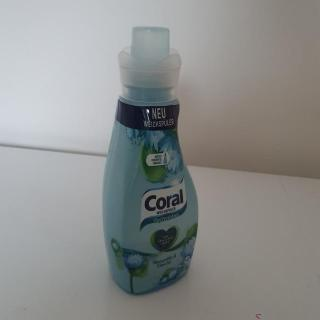Plastic-bottle: (99, 22, 206, 301)
